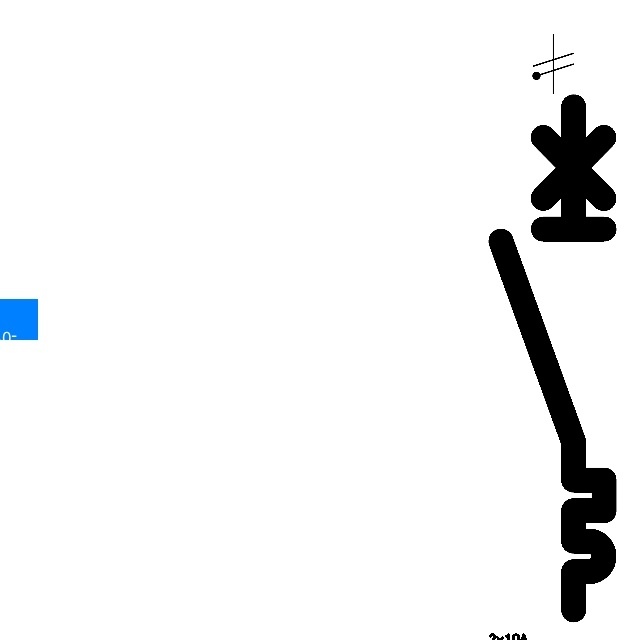interruptor_termomagnetico: (488, 93, 617, 622)
